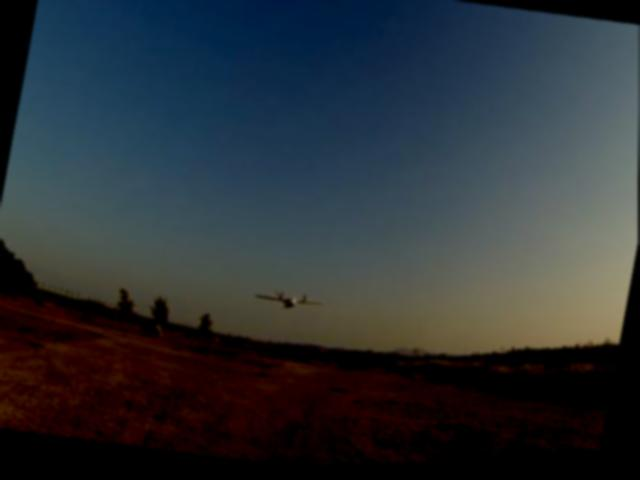uav: (247, 274, 333, 327)
